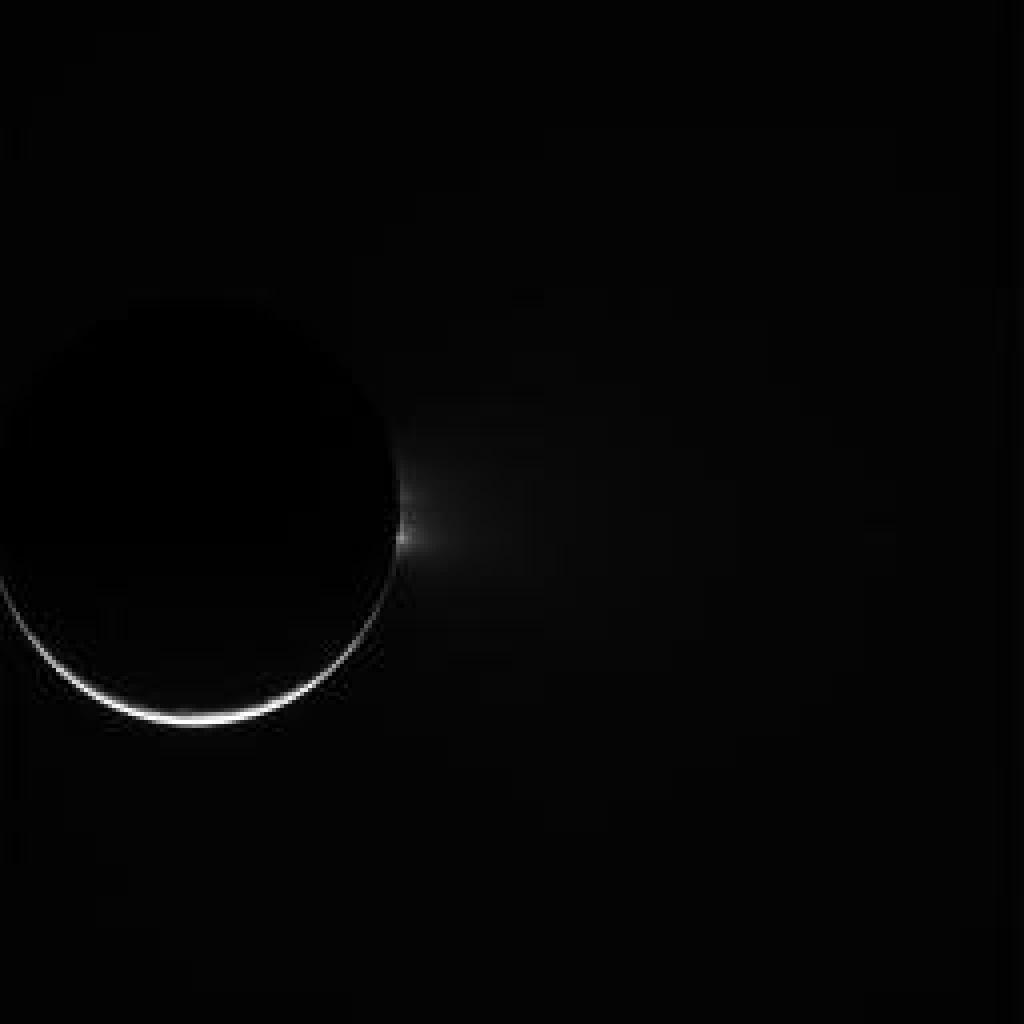plumes: (396, 441, 464, 562)
